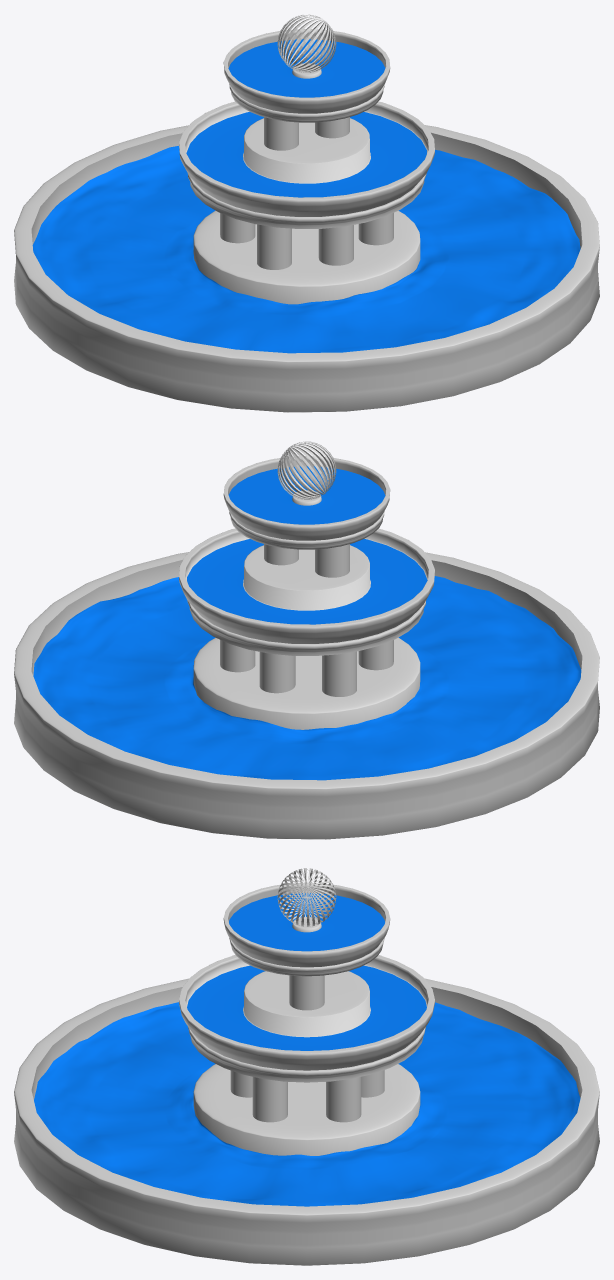
The model's file is fountain.fbx.
3 renders of one model, top to bottom at view 1: azimuth 30°, elevation 25°; view 2: azimuth 150°, elevation 25°; view 3: azimuth 270°, elevation 25°, orthographic.
Parts seen in each view (by area): view 1: fountain; view 2: fountain; view 3: fountain.
Part boxes in pixels (x1,y1,x2,y2): fountain: (14,14,599,412); fountain: (14,441,599,839); fountain: (14,868,599,1265).
Bounding box in the file's own units: 200 × 103 × 200.
